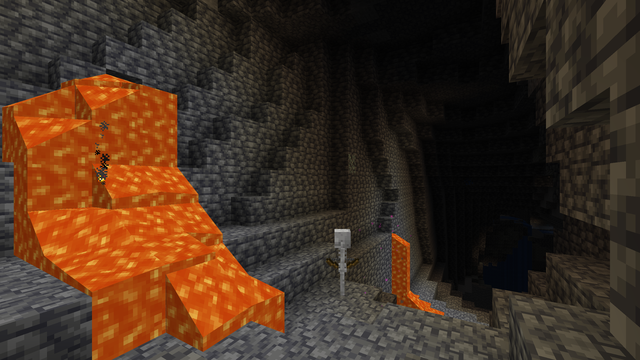squelettes: (329, 228, 353, 298)
